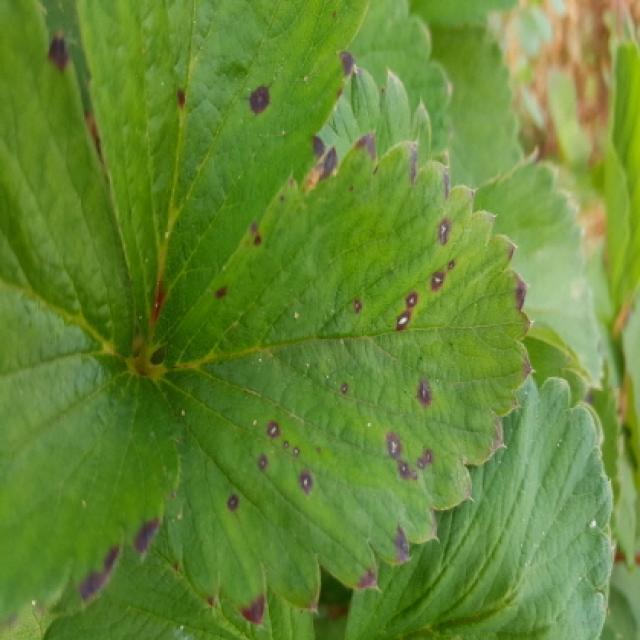Leaf Spot: (146, 126, 537, 628), (75, 0, 374, 366)
